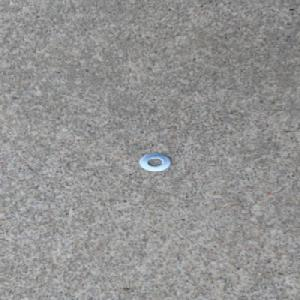Washer: (138, 152, 171, 172)
